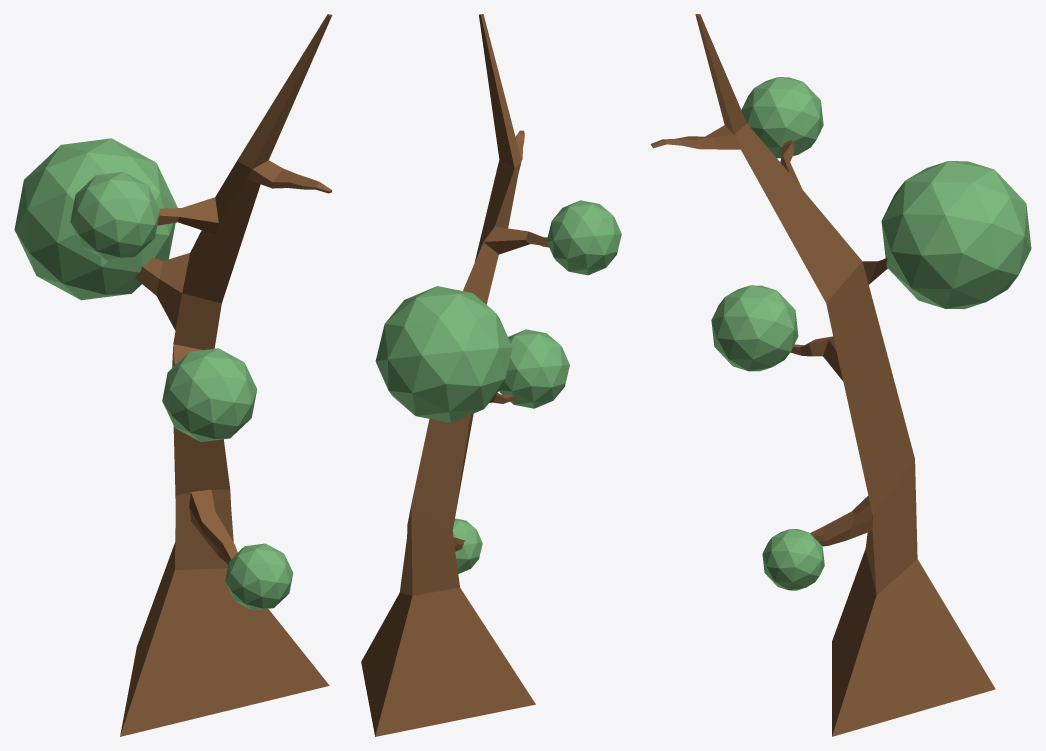
File: ball_style_tree.fbx
3 views of the same model, side by side, from view 1: azimuth 30°, elevation 25°; view 2: azimuth 150°, elevation 25°; view 3: azimuth 270°, elevation 25° (orthographic). The views are drawn at different scales.
Visible parts, largest first — view 1: tree trunk with boughs, ball style tree.020, ball style tree.021, ball style tree.019, ball style tree.022; view 2: tree trunk with boughs, ball style tree.020, ball style tree.019, ball style tree.021, ball style tree.022; view 3: tree trunk with boughs, ball style tree.020, ball style tree.021, ball style tree.019, ball style tree.022.
Boxes of the visible parts, x1,y1,x2,y2 form: tree trunk with boughs: (120,14,332,736); ball style tree.020: (14,138,177,300); ball style tree.021: (162,348,257,441); ball style tree.019: (70,171,160,260); ball style tree.022: (225,543,293,610); tree trunk with boughs: (361,14,548,736); ball style tree.020: (375,286,512,422); ball style tree.019: (546,200,621,275); ball style tree.021: (499,329,569,408); ball style tree.022: (452,518,482,573); tree trunk with boughs: (650,14,995,736); ball style tree.020: (881,161,1031,309); ball style tree.021: (711,285,798,371); ball style tree.019: (741,77,823,158); ball style tree.022: (762,529,824,590).
Size of the model in its own units: 1.68 by 4.25 by 2.13.
2 materials, 2 textured.
